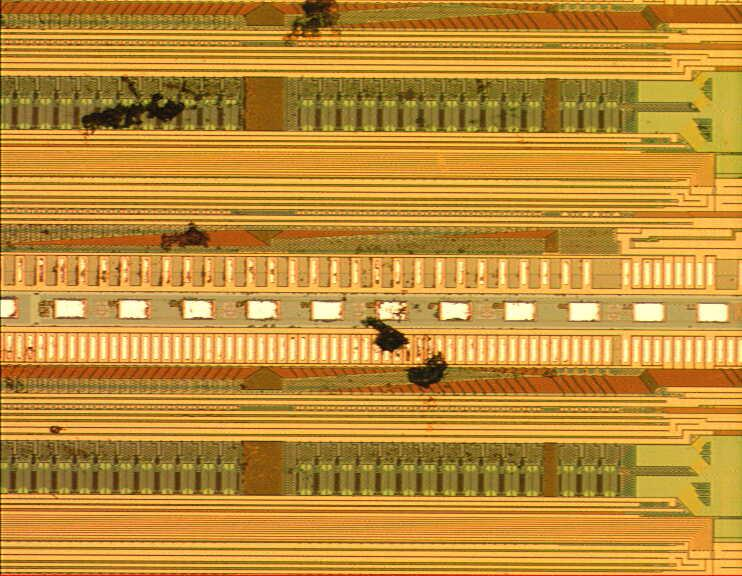PO CONTAMINATION: (5, 1, 449, 440)
